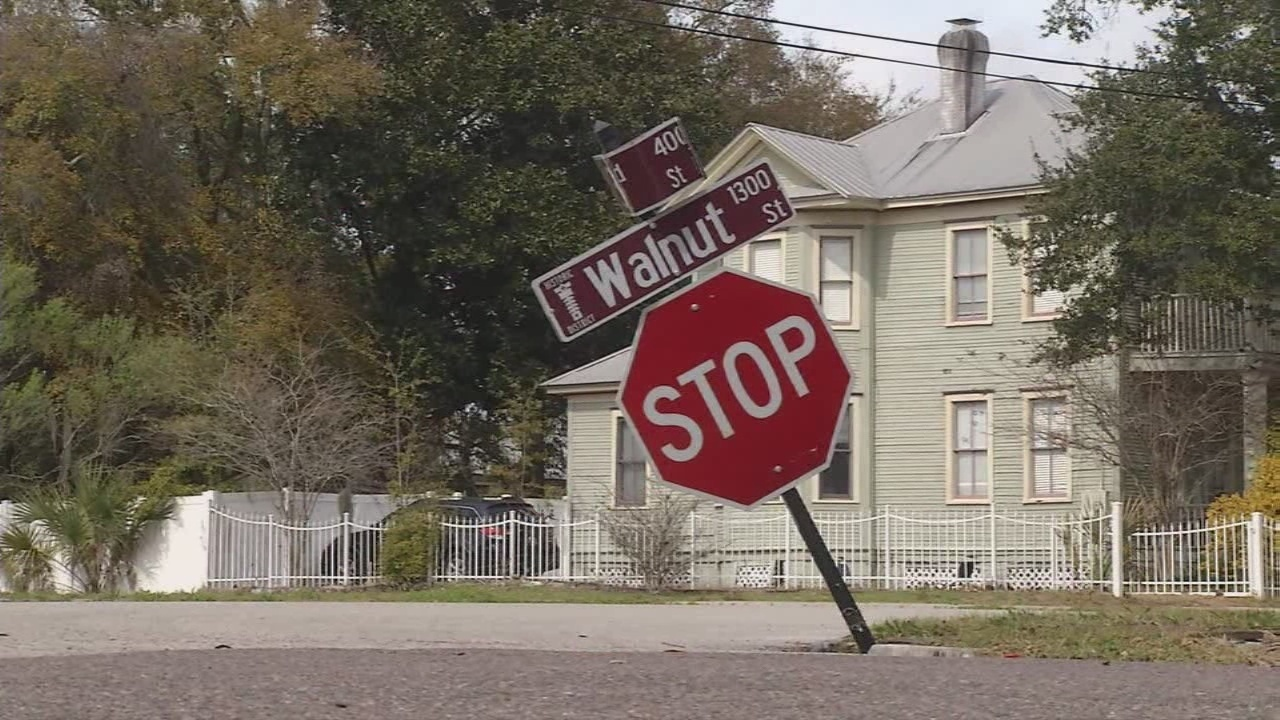stop: (619, 273, 850, 503), (619, 303, 848, 502), (617, 274, 847, 471), (620, 276, 805, 459)
